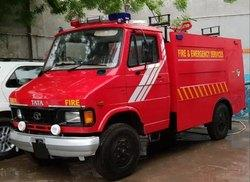Emergency-Vehicles: (28, 12, 242, 162)
